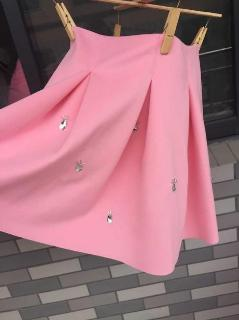skirt: (0, 26, 220, 276)
